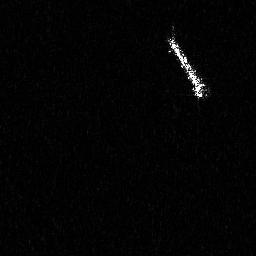ship: (166, 23, 212, 104)
